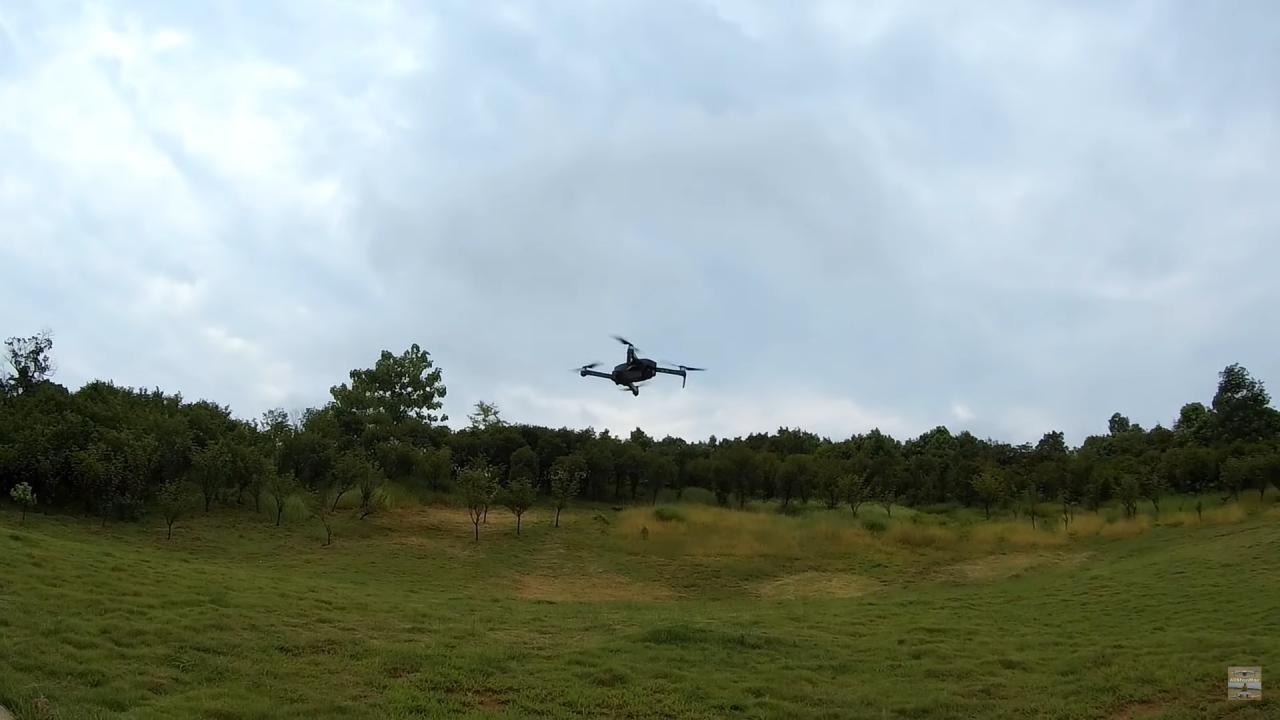Drone: (561, 326, 713, 408)
